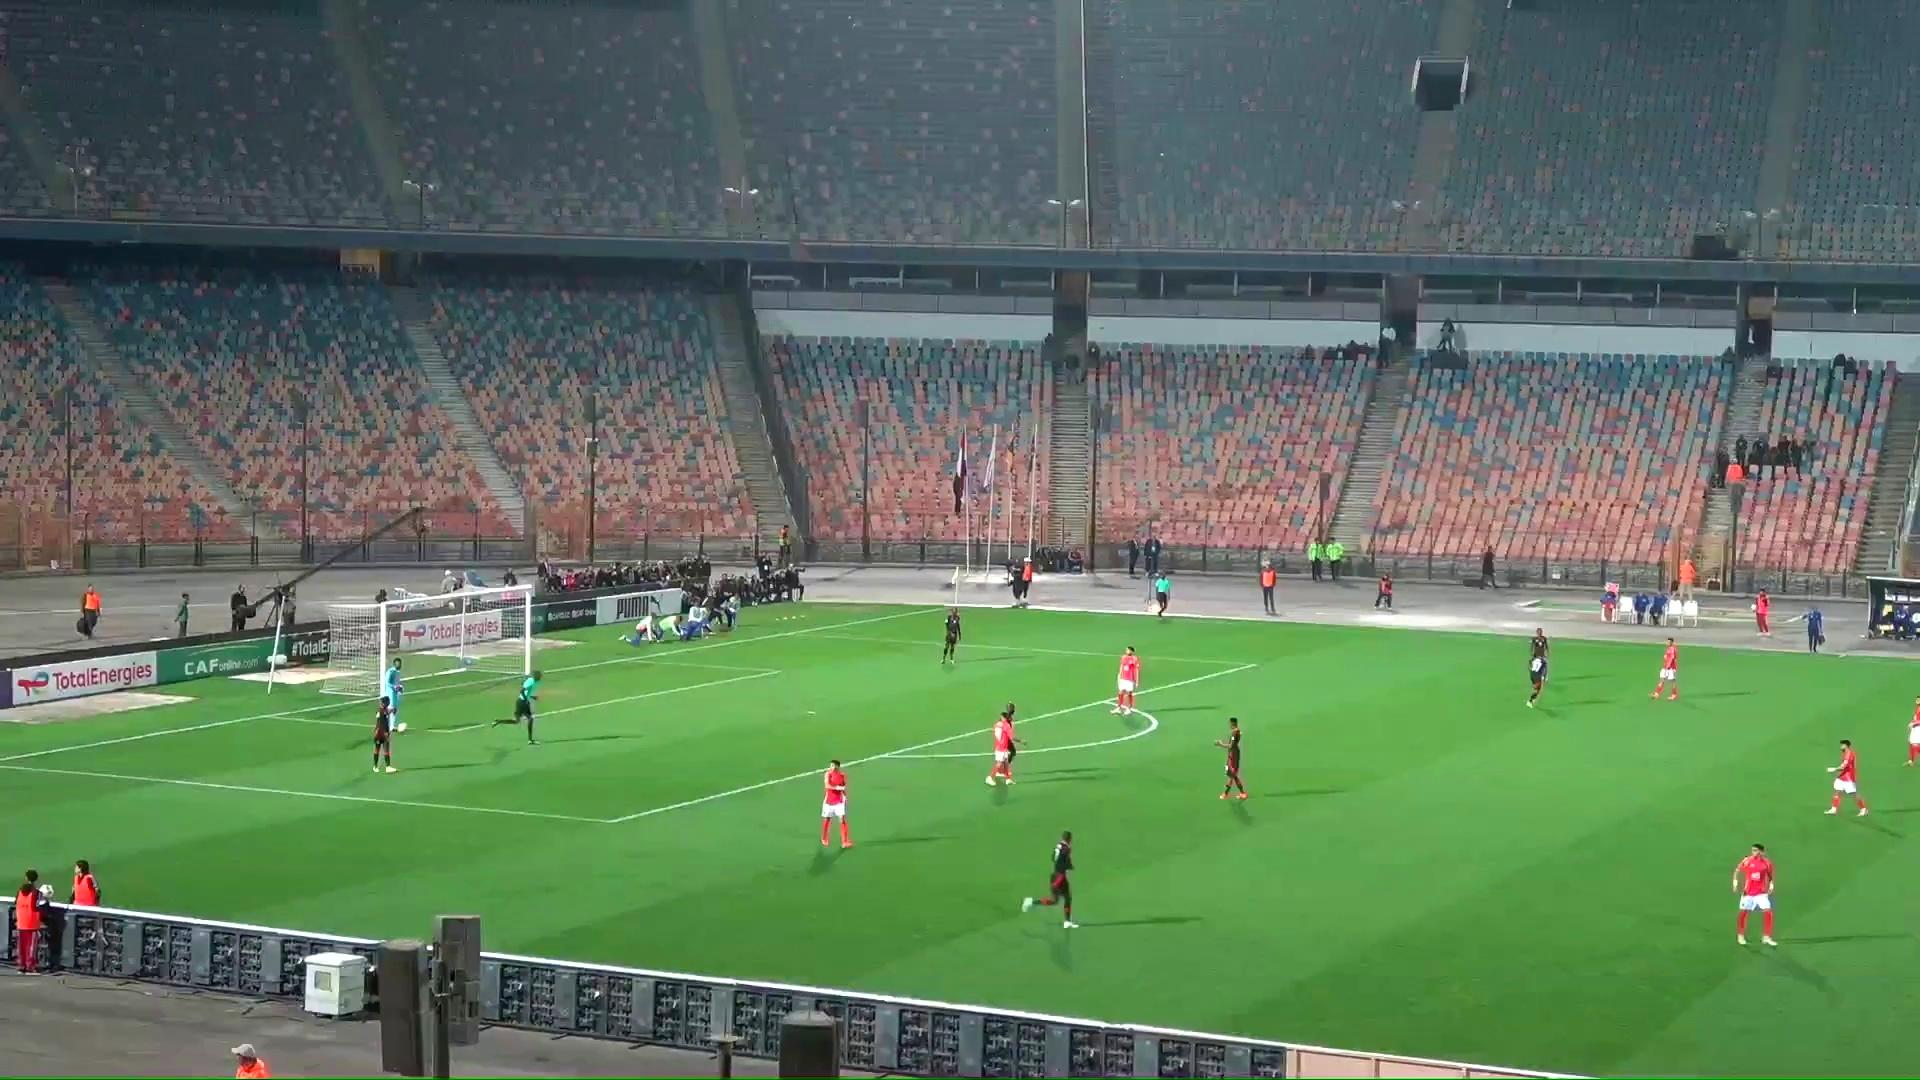GK2: (380, 658, 407, 733)
Refree: (491, 669, 543, 742), (1150, 568, 1172, 618)
Team1: (1731, 845, 1774, 936), (1825, 740, 1870, 816), (820, 761, 853, 847), (985, 704, 1019, 785), (1648, 637, 1679, 700), (1112, 646, 1139, 715), (1905, 698, 1919, 765)
Team2: (1023, 832, 1079, 927), (1215, 719, 1247, 799), (371, 688, 401, 771), (1524, 634, 1549, 707), (940, 607, 961, 665), (1528, 626, 1551, 662)
